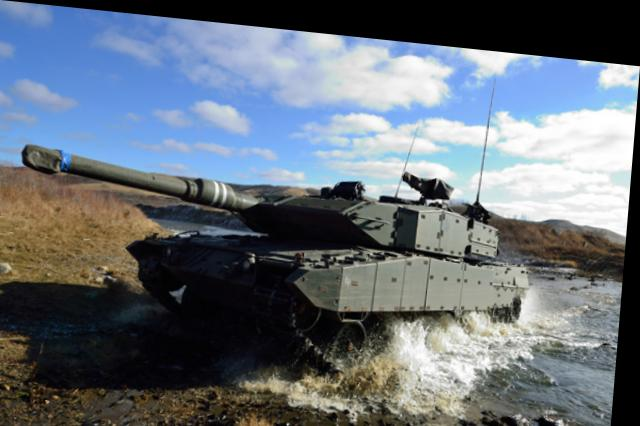tank: (128, 119, 576, 374)
